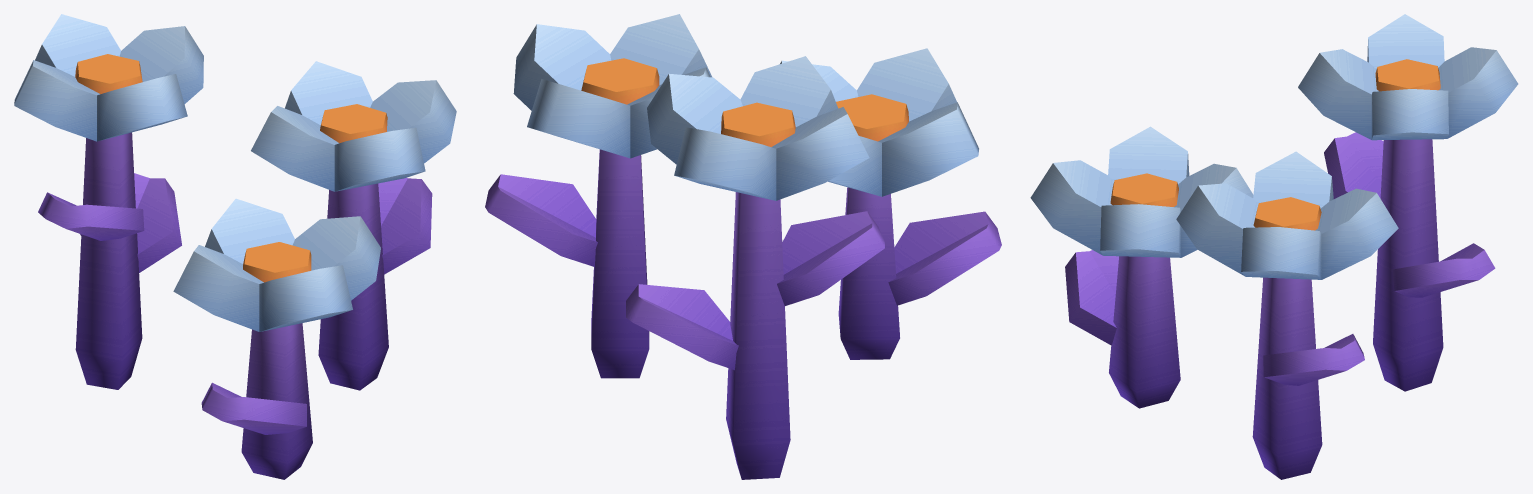
File: flores azuis altas.glb
3 renders of one model, left to right at view 1: azimuth 30°, elevation 25°; view 2: azimuth 150°, elevation 25°; view 3: azimuth 270°, elevation 25°, orthographic. The views are drawn at different scales.
Parts seen in each view (by area): view 1: flowers-tall, flowers-tall.001, flowers-tall.002; view 2: flowers-tall.001, flowers-tall, flowers-tall.002; view 3: flowers-tall, flowers-tall.001, flowers-tall.002.
Boxes of the visible parts, x1=… form: flowers-tall: x1=14, y1=14, x2=456, y2=331; flowers-tall.001: x1=38, y1=132, x2=432, y2=479; flowers-tall.002: x1=75, y1=54, x2=387, y2=282; flowers-tall.001: x1=485, y1=149, x2=1001, y2=479; flowers-tall: x1=513, y1=14, x2=978, y2=200; flowers-tall.002: x1=581, y1=58, x2=908, y2=146; flowers-tall: x1=1030, y1=14, x2=1518, y2=279; flowers-tall.001: x1=1065, y1=132, x2=1495, y2=479; flowers-tall.002: x1=1110, y1=59, x2=1440, y2=230.
Size of the model in its own units: 0.546 by 0.4616 by 0.6183.
Materials: 1 (1 with a texture image).
